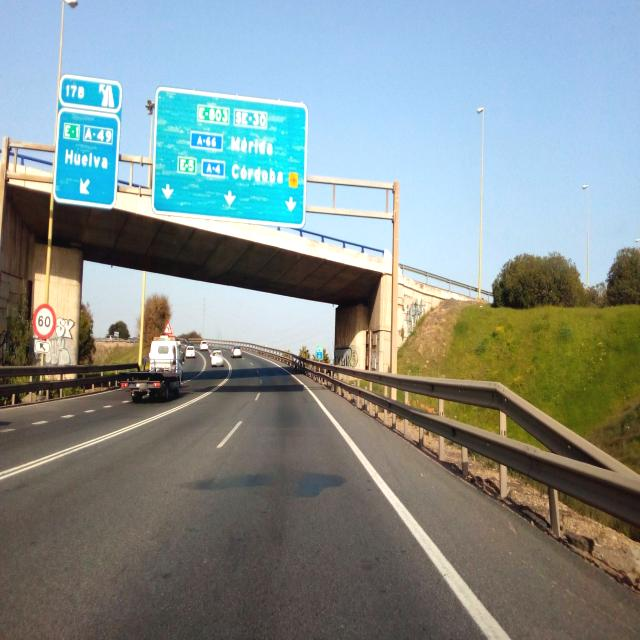car: (185, 344, 196, 360), (232, 345, 243, 358)
